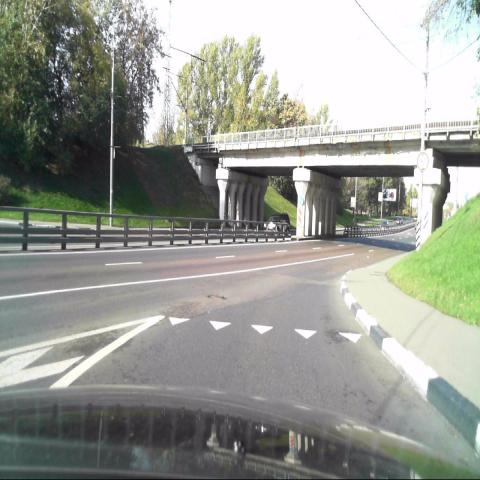3_13: (416, 150, 430, 174)
